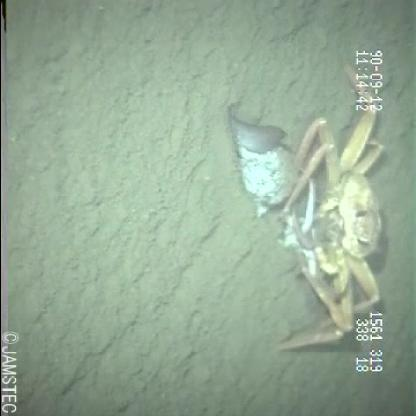Bio: (226, 56, 395, 354)
